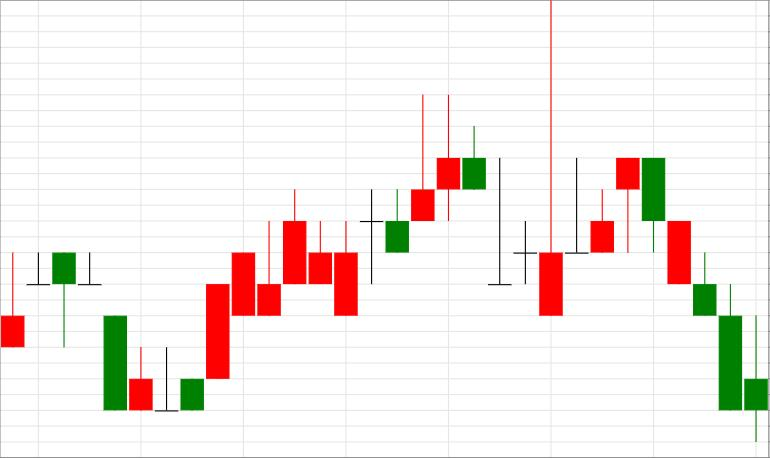bearish_engulfing_fall: (539, 1, 666, 316)
hanging_man_fall: (539, 1, 640, 316)
shooting_star_fall: (334, 94, 434, 316)
